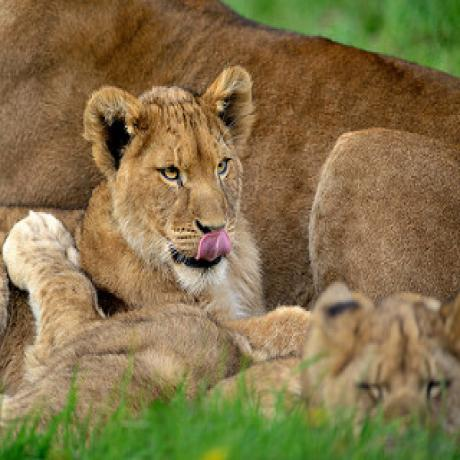Lion: (0, 62, 258, 311), (305, 270, 460, 415)
